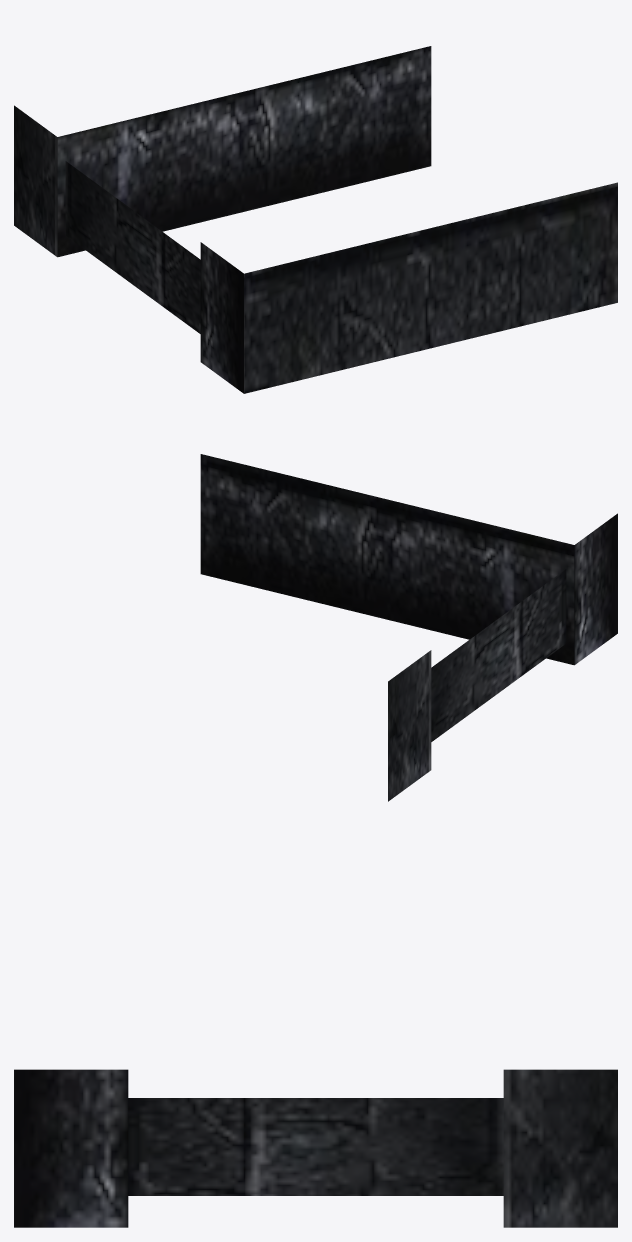
3 renders of one model, top to bottom at view 1: azimuth 30°, elevation 25°; view 2: azimuth 150°, elevation 25°; view 3: azimuth 270°, elevation 25°, orthographic. The views are drawn at different scales.
Visible parts, largest first — view 1: model_Object10; view 2: model_Object10; view 3: model_Object10.
Part boxes in pixels (x1,y1,x2,y2): model_Object10: (14, 46, 617, 393); model_Object10: (200, 454, 617, 801); model_Object10: (14, 1069, 617, 1227).
Bounding box in the file's own units: 2.65 × 0.8146 × 2.82.
1 material, 1 textured.
